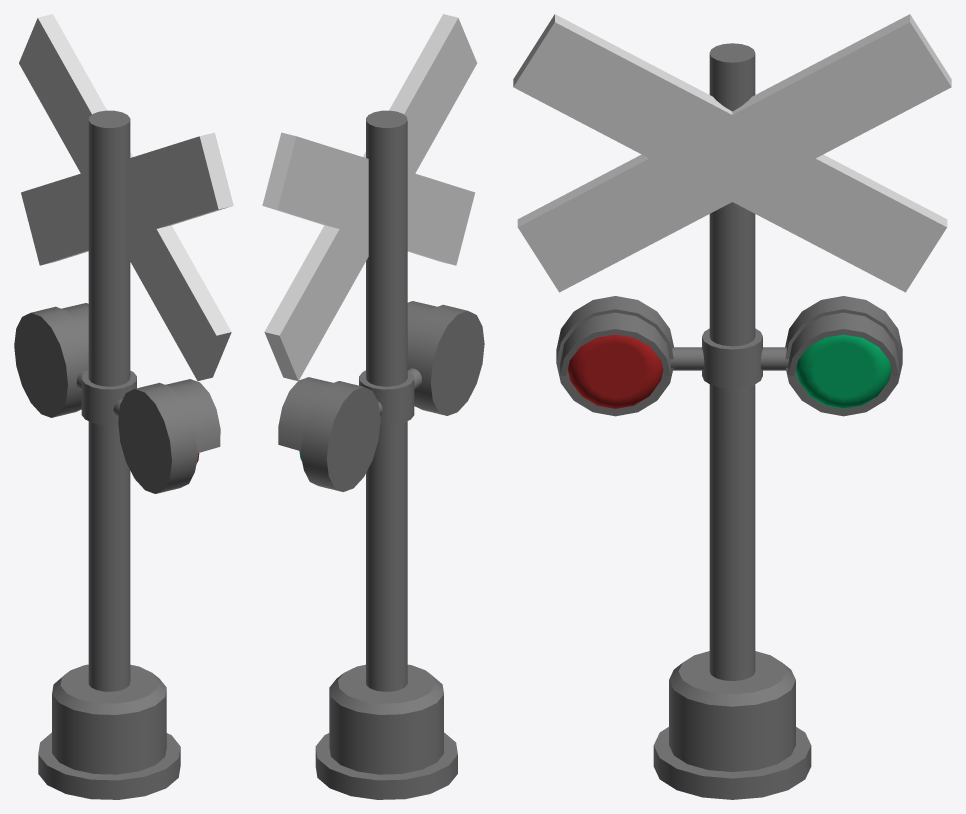
File: SM_TrainPassingSign02.fbx
3 views of the same model, side by side, from view 1: azimuth 30°, elevation 25°; view 2: azimuth 150°, elevation 25°; view 3: azimuth 270°, elevation 25° (orthographic). The views are drawn at different scales.
Parts seen in each view (by area): view 1: SM_TrainPassingSign02; view 2: SM_TrainPassingSign02; view 3: SM_TrainPassingSign02.
Boxes of the visible parts, x1,y1,x2,y2 form: SM_TrainPassingSign02: [14, 14, 233, 799]; SM_TrainPassingSign02: [262, 14, 484, 799]; SM_TrainPassingSign02: [513, 14, 951, 799].
Bounding box in the file's own units: 66.17 × 351 × 184.
